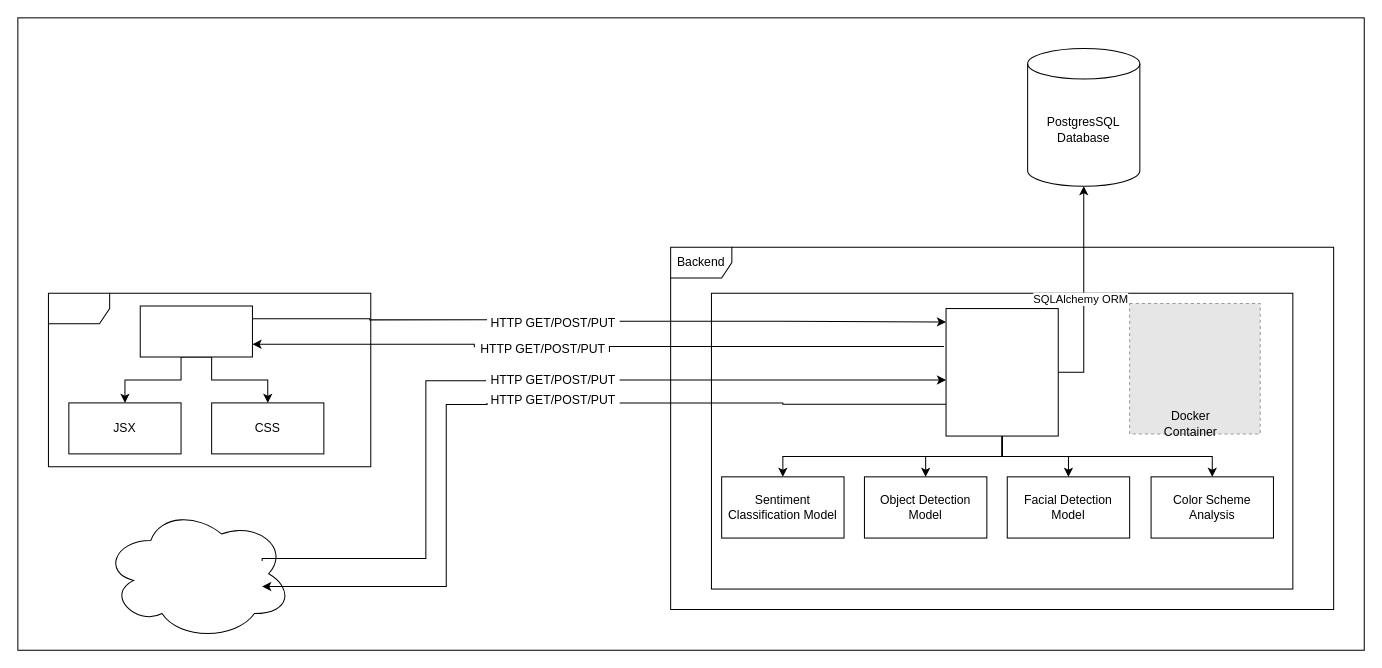
This 1382x668 diagram has some shape labels left out. Grey dashed boxes stand in for pictures. The box of each missing label's shape, as (x1, y1, x2, y2) in pixels:
FastAPI: (945, 308, 1058, 436)
Frontend: (47, 292, 371, 467)
React: (139, 305, 252, 357)
Researcher's App: (103, 506, 292, 640)
